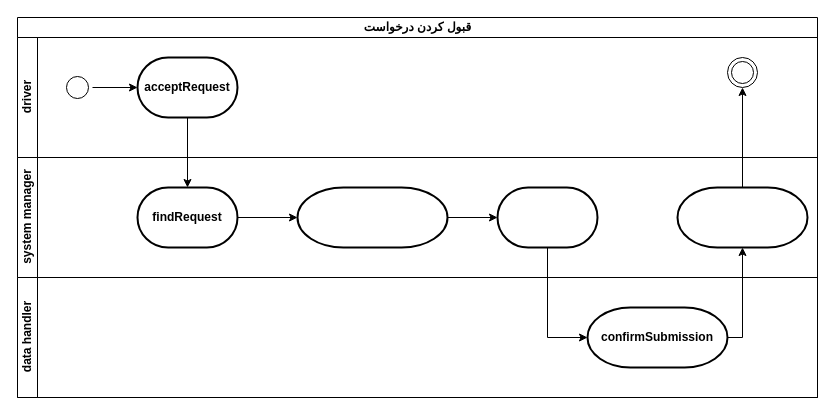
Image size: 835x415. Some labels were removed from this diagram. The centre of each missing label's shape, as x and y in pixels:
confirmAcceptance: point (742, 217)
savedata: point (547, 217)
uptateRequestStatus: point (372, 217)
